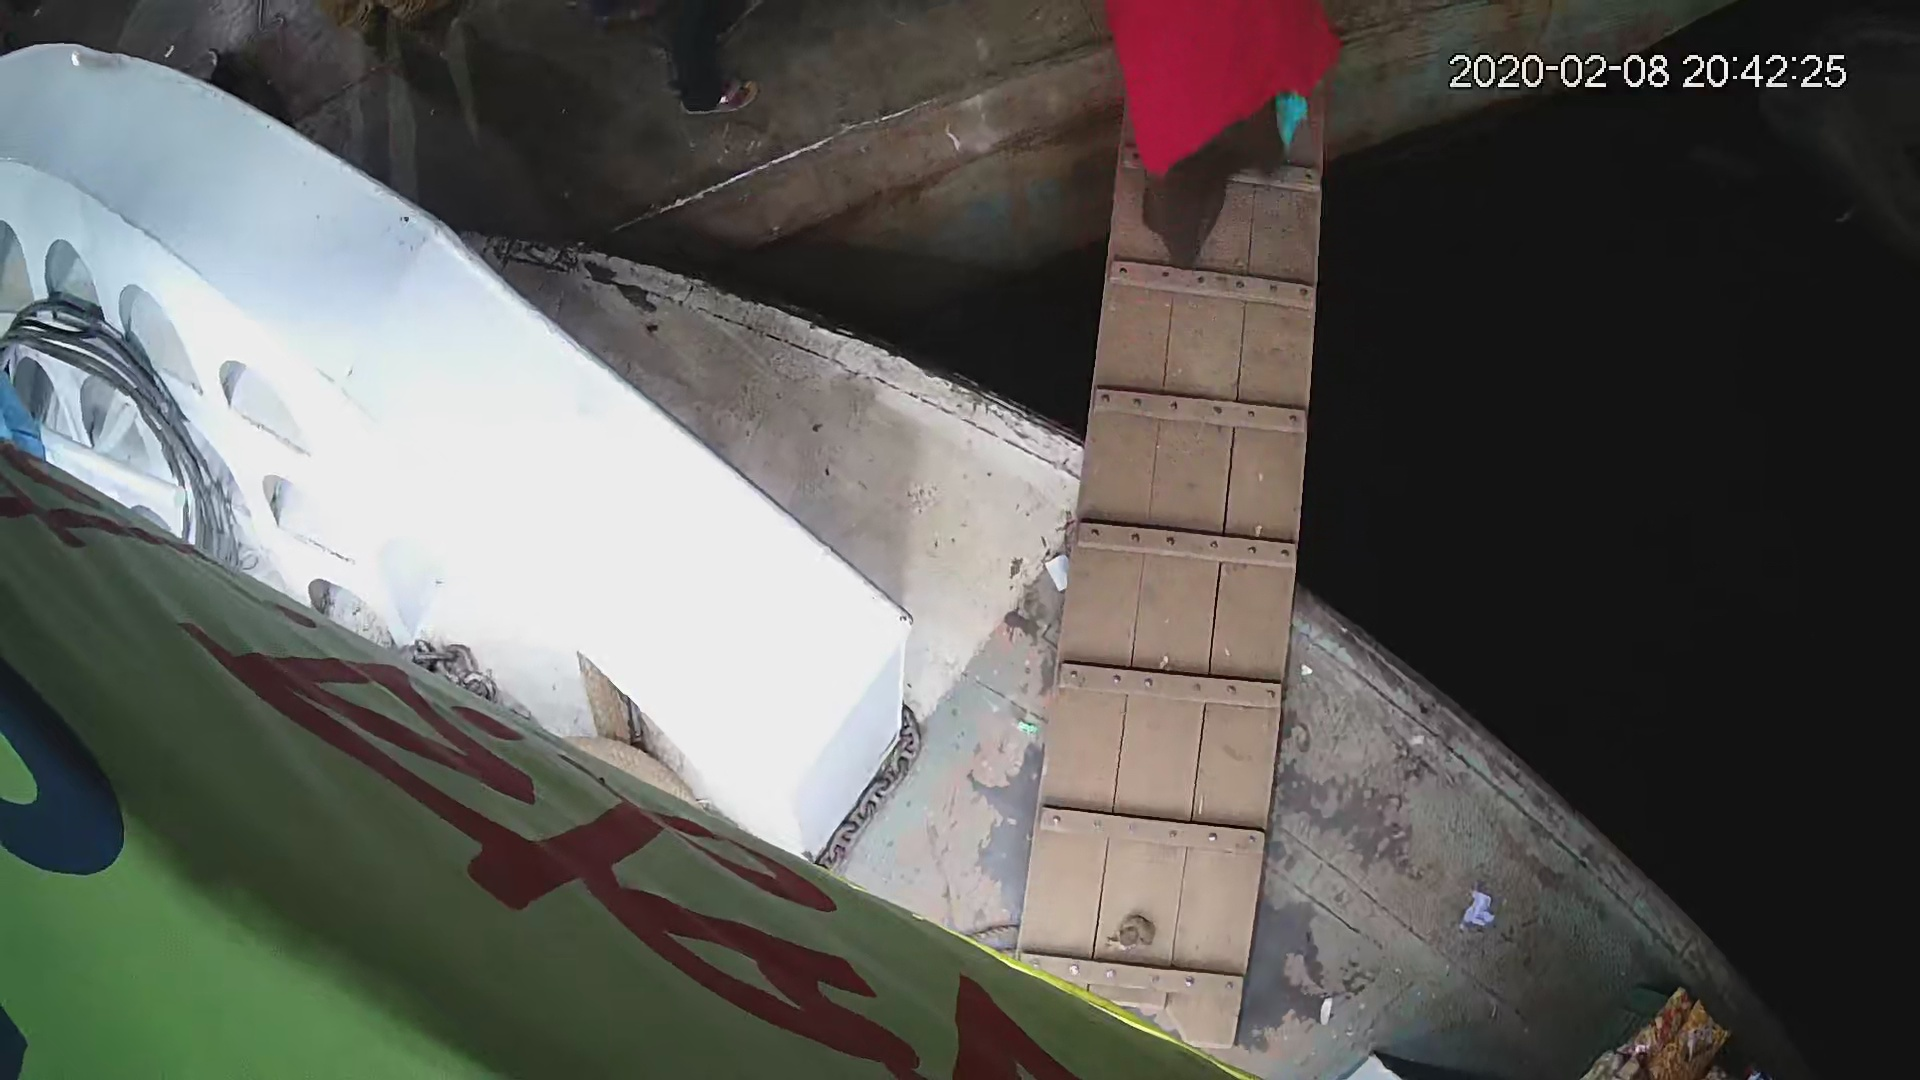person: (1100, 1, 1344, 266)
